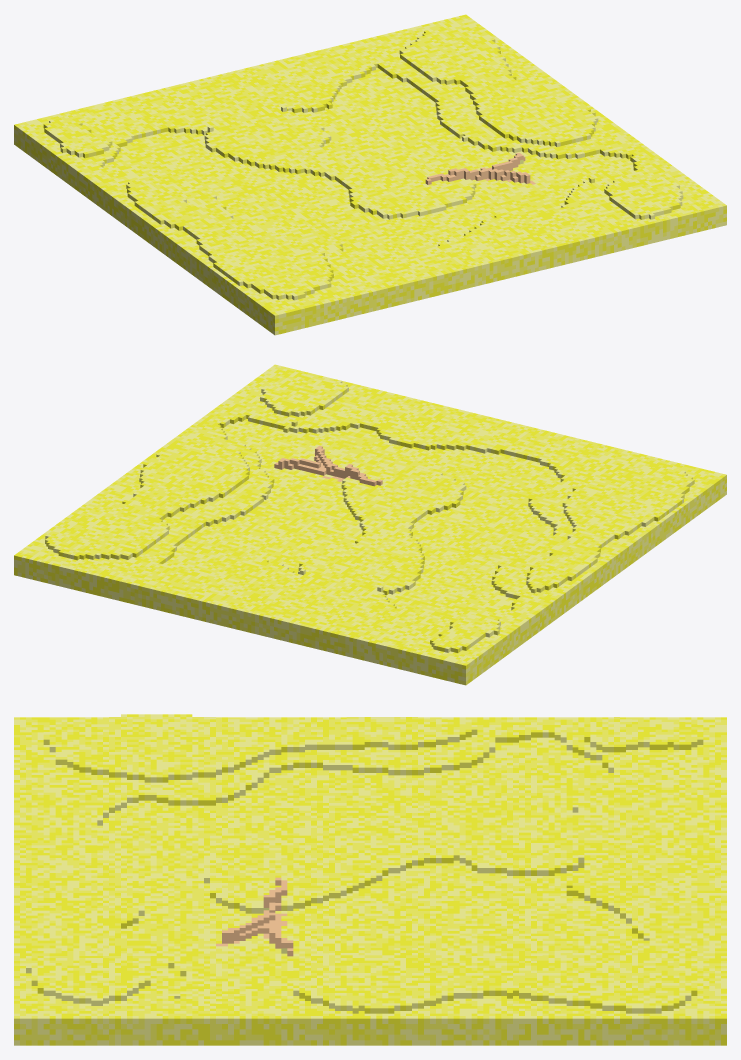
Rendered from sand_asset_3.obj.
The picture shows the model from 3 angles, top to bottom: view 1: azimuth 30°, elevation 25°; view 2: azimuth 150°, elevation 25°; view 3: azimuth 270°, elevation 25°; orthographic projection. The views are drawn at different scales.
Bounding box in the file's own units: 12 × 0.7 × 12.
1 material, 1 textured.
